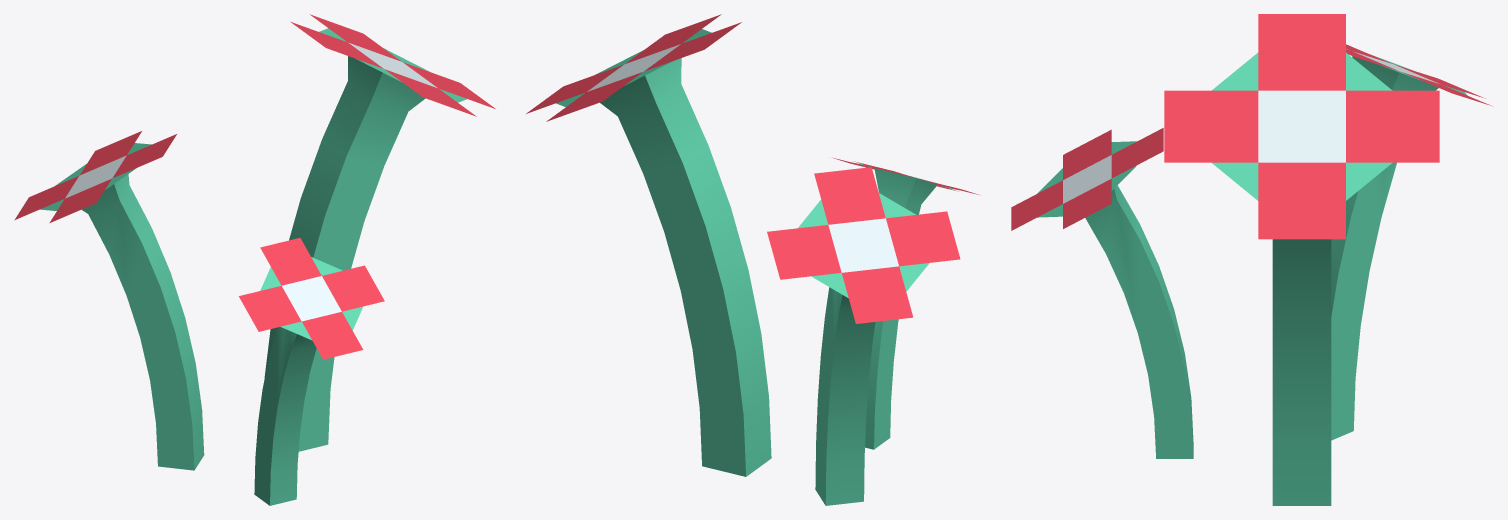
The model's file is flowers.dae.
3 renders of one model, left to right at view 1: azimuth 30°, elevation 25°; view 2: azimuth 150°, elevation 25°; view 3: azimuth 270°, elevation 25°, orthographic. The views are drawn at different scales.
Parts seen in each view (by area): view 1: flowers; view 2: flowers; view 3: flowers.
Boxes of the visible parts, x1,y1,x2,y2 form: flowers: (14,14,495,505); flowers: (526,14,978,505); flowers: (1011,14,1492,505).
Size of the model in its own units: 0.4975 by 0.464 by 0.4168.
